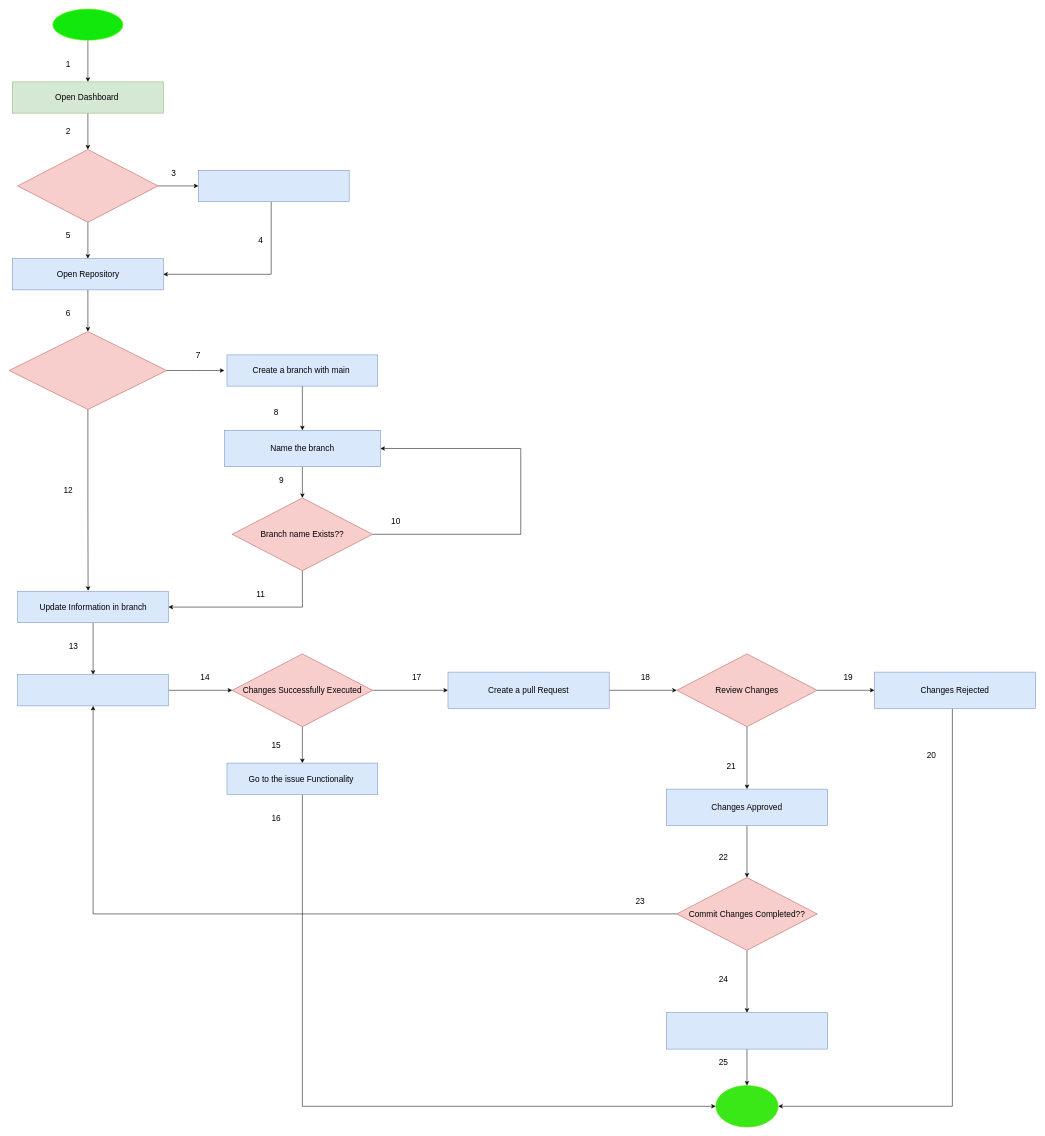
Image size: 1045x1136. Some labels were removed from this diagram. Each missing label, with the centre of its shape:
"Commit the Possible Changes" goes at pixel 92 690.
"Create a Fork Repository" goes at pixel 273 186.
"END" goes at pixel 746 1106.
"Fork Repository Exists??" goes at pixel 87 185.
"Merge Pull Request" goes at pixel 747 1030.
"Multiple branches exist??" goes at pixel 88 370.
"START" goes at pixel 87 24.
